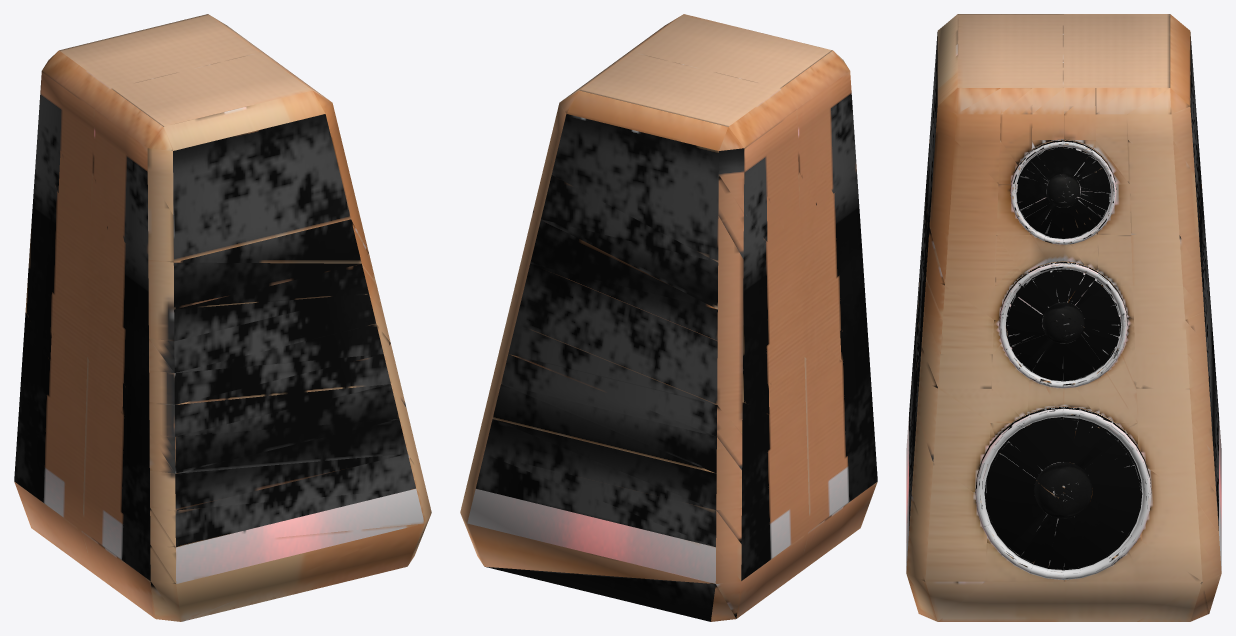
Rendered from SpeakerRectRed.glb.
3 views of the same model, side by side, from view 1: azimuth 30°, elevation 25°; view 2: azimuth 150°, elevation 25°; view 3: azimuth 270°, elevation 25° (orthographic).
Visible parts, largest first — view 1: 1-speaker-Eidolon-LP; view 2: 1-speaker-Eidolon-LP; view 3: 1-speaker-Eidolon-LP.
Boxes of the visible parts, <box> form: 1-speaker-Eidolon-LP: <box>14,14,431,621</box>; 1-speaker-Eidolon-LP: <box>460,14,877,621</box>; 1-speaker-Eidolon-LP: <box>906,14,1221,621</box>.
Bounding box in the file's own units: 1.27 × 2 × 1.17.
1 material, 1 textured.
